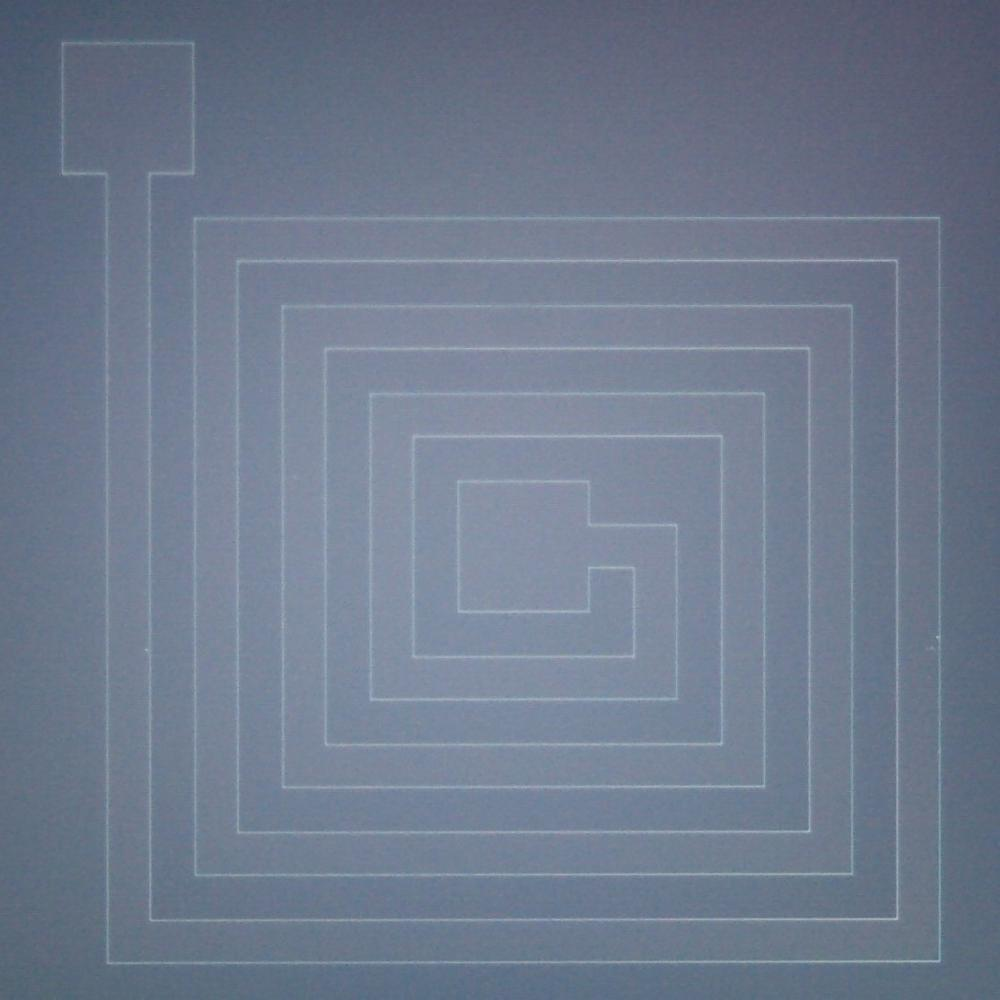dot: (144, 647, 149, 653), (935, 636, 939, 639)
